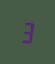three: (19, 19, 33, 44)
